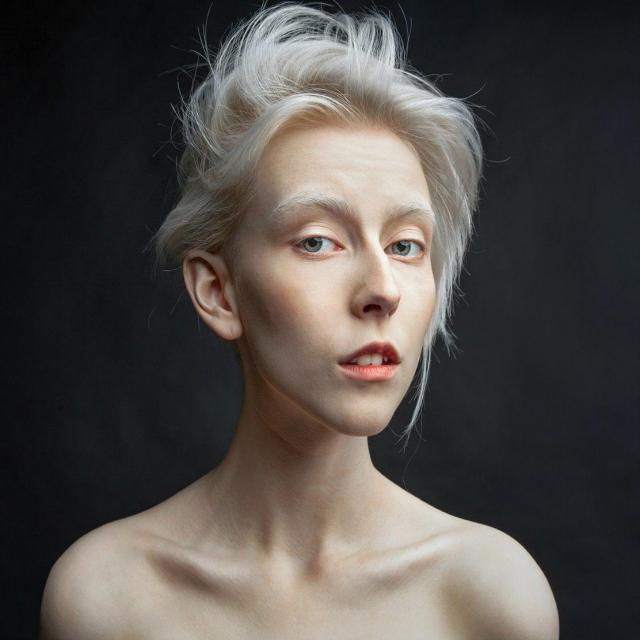earlobe: (181, 249, 243, 344)
